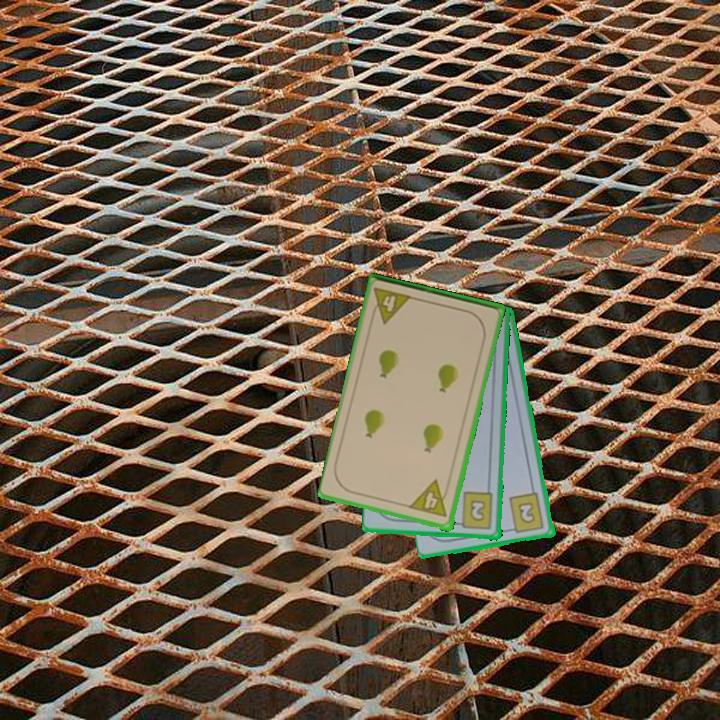2b: (505, 490, 547, 536), (453, 489, 496, 532)
4p: (367, 284, 415, 327), (407, 477, 453, 520)
